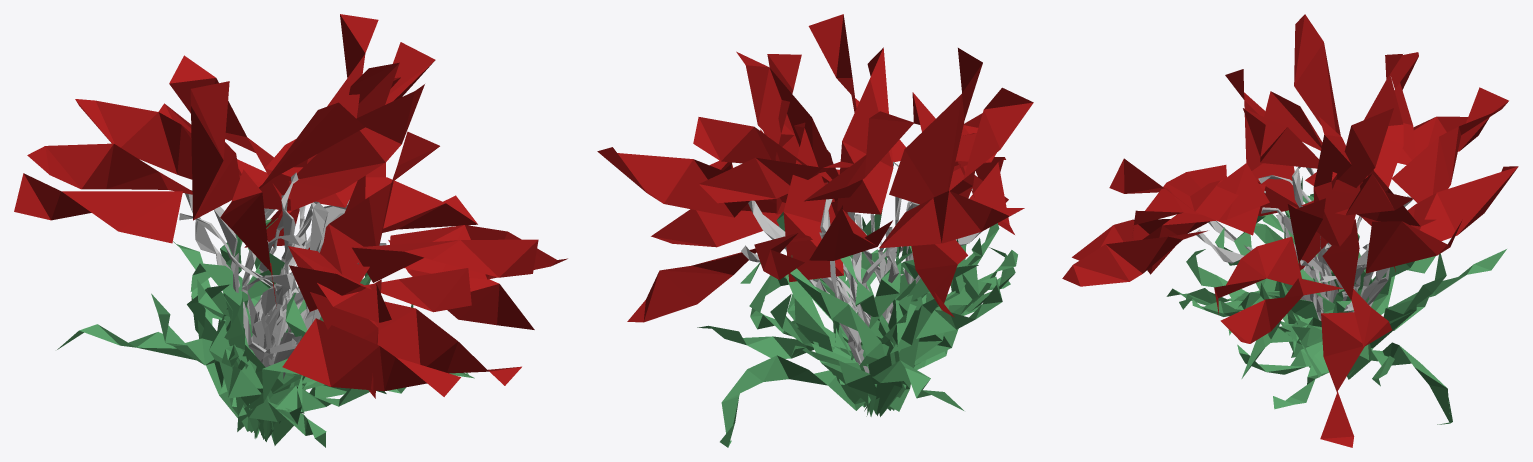
File: Buttercup.fbx
3 renders of one model, left to right at view 1: azimuth 30°, elevation 25°; view 2: azimuth 150°, elevation 25°; view 3: azimuth 270°, elevation 25°, orthographic. The views are drawn at different scales.
Parts seen in each view (by area): view 1: buttercup1Flower, buttercup1Leaf, buttercup1Main; view 2: buttercup1Flower, buttercup1Leaf, buttercup1Main; view 3: buttercup1Flower, buttercup1Leaf, buttercup1Main.
Boxes of the visible parts, x1,y1,x2,y2 form: buttercup1Flower: (14, 14, 567, 398); buttercup1Leaf: (57, 218, 474, 447); buttercup1Main: (179, 172, 386, 378); buttercup1Flower: (597, 14, 1033, 322); buttercup1Leaf: (697, 204, 1017, 447); buttercup1Main: (741, 161, 981, 373); buttercup1Flower: (1062, 14, 1518, 447); buttercup1Leaf: (1166, 176, 1506, 424); buttercup1Main: (1196, 166, 1412, 320).
Bounding box in the file's own units: 1.79 × 1.52 × 1.87.
